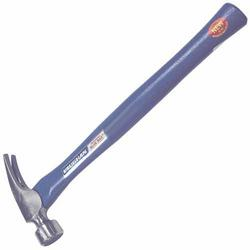hammer: (0, 0, 249, 246)
